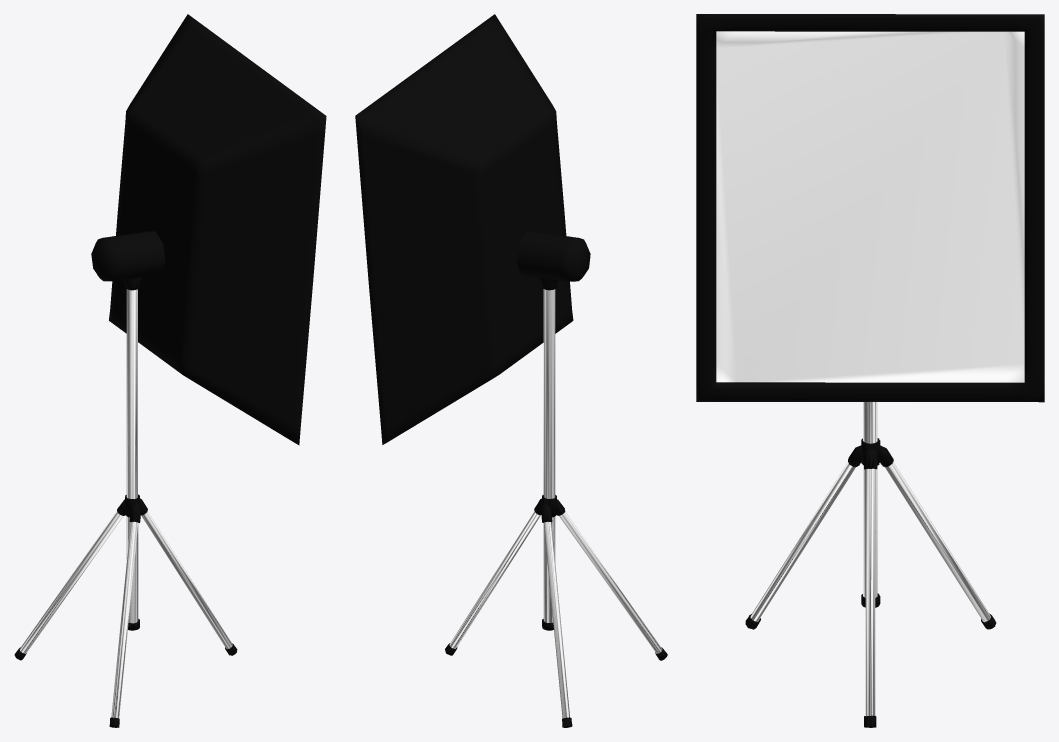
Rendered from lamp.glb.
3 views of the same model, side by side, from view 1: azimuth 30°, elevation 25°; view 2: azimuth 150°, elevation 25°; view 3: azimuth 270°, elevation 25° (orthographic). The views are drawn at different scales.
Parts seen in each view (by area): view 1: Studio lamp 1; view 2: Studio lamp 1; view 3: Studio lamp 1.
Boxes of the visible parts, x1,y1,x2,y2 form: Studio lamp 1: (14, 14, 326, 727); Studio lamp 1: (355, 14, 667, 727); Studio lamp 1: (696, 14, 1044, 727).
Size of the model in its own units: 0.6954 by 1.98 by 0.8565.
3 materials, 1 textured.
